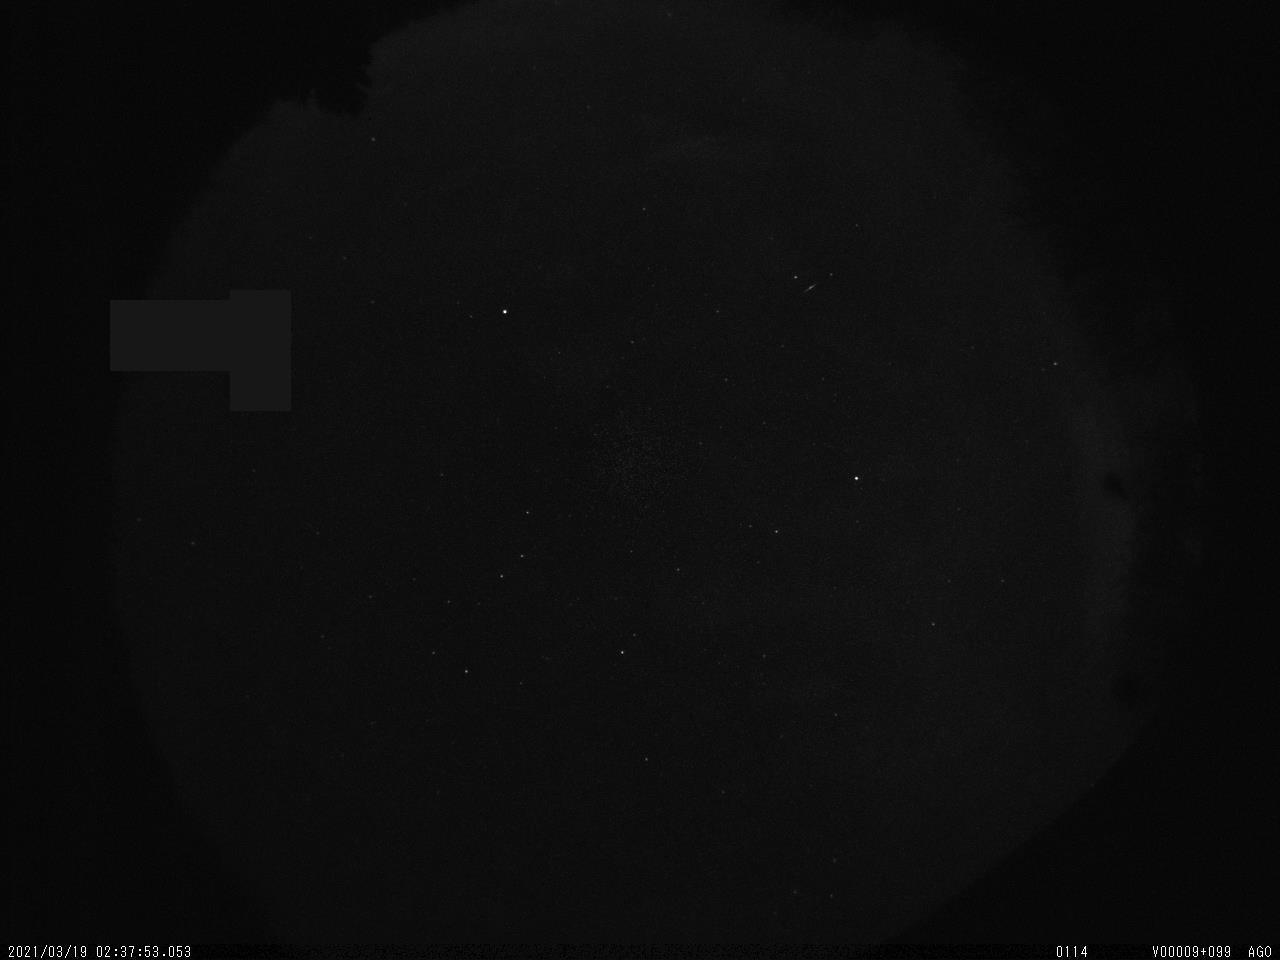meteor: (800, 279, 823, 297)
